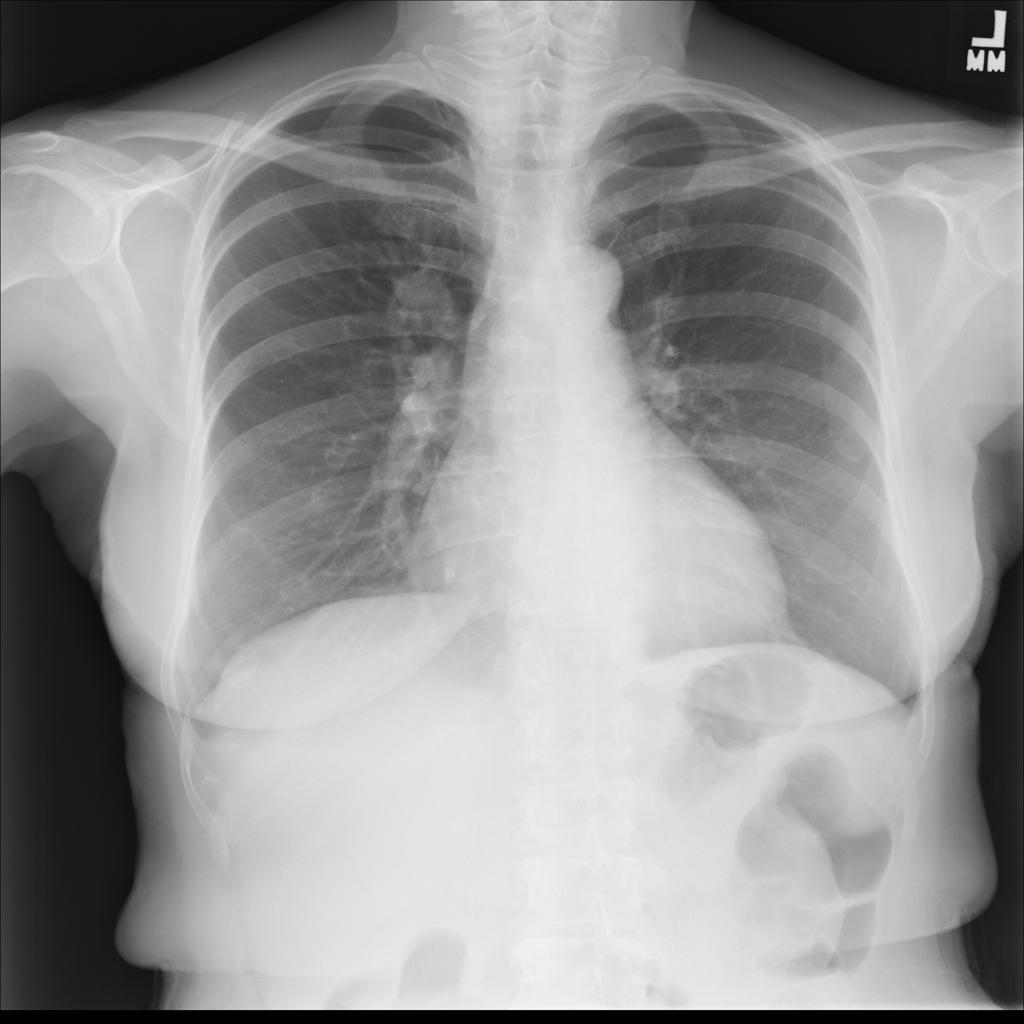nodule: (379, 257, 468, 352)
